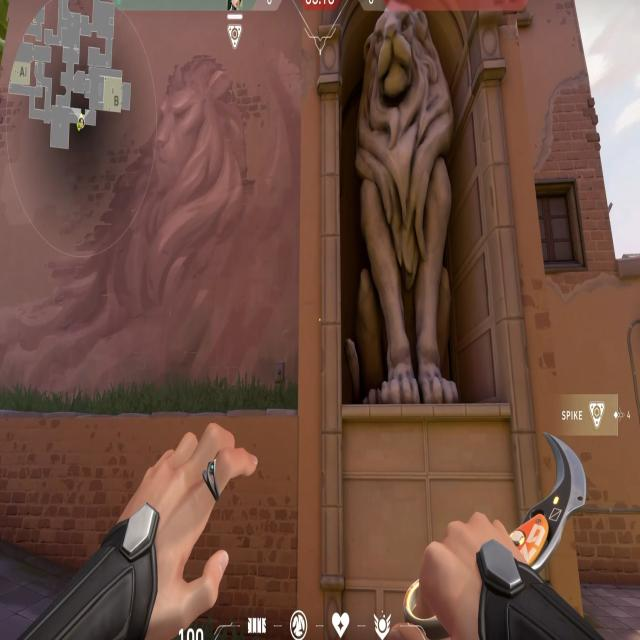Lion_Corner: (271, 1, 541, 434)
